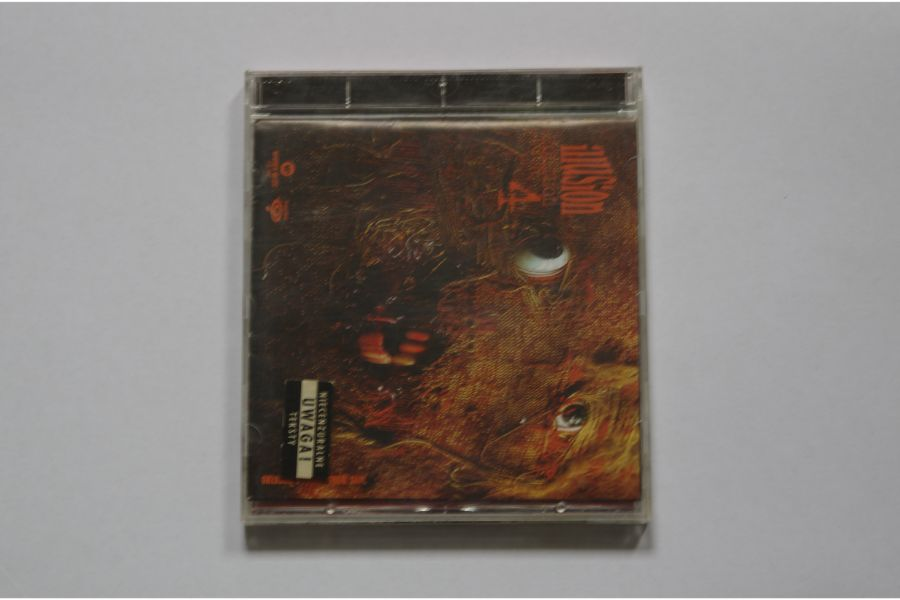album: (238, 68, 651, 527)
